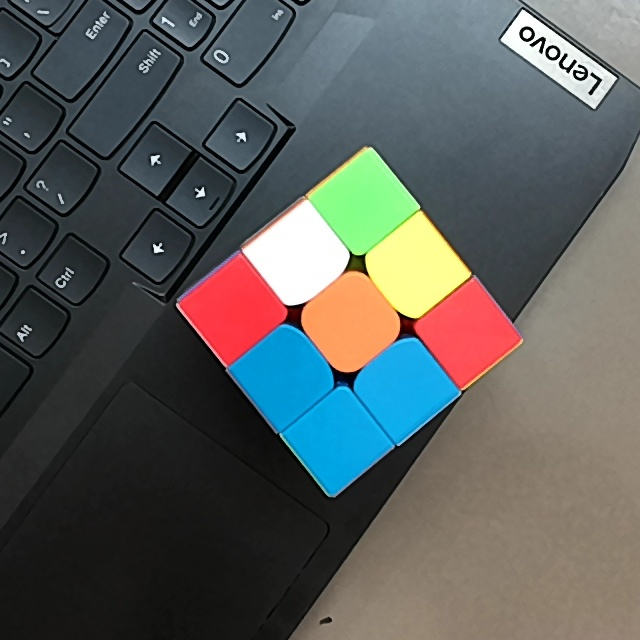tile: (323, 294, 378, 352), (310, 414, 366, 470), (256, 348, 311, 405), (376, 361, 434, 413), (442, 305, 495, 359), (386, 244, 440, 297), (338, 177, 392, 230), (207, 281, 258, 336), (274, 230, 327, 282)
